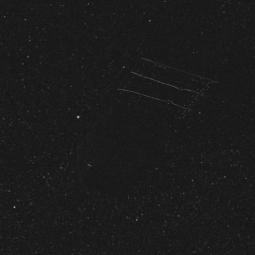proba_3_csc: (69, 44, 229, 193)
